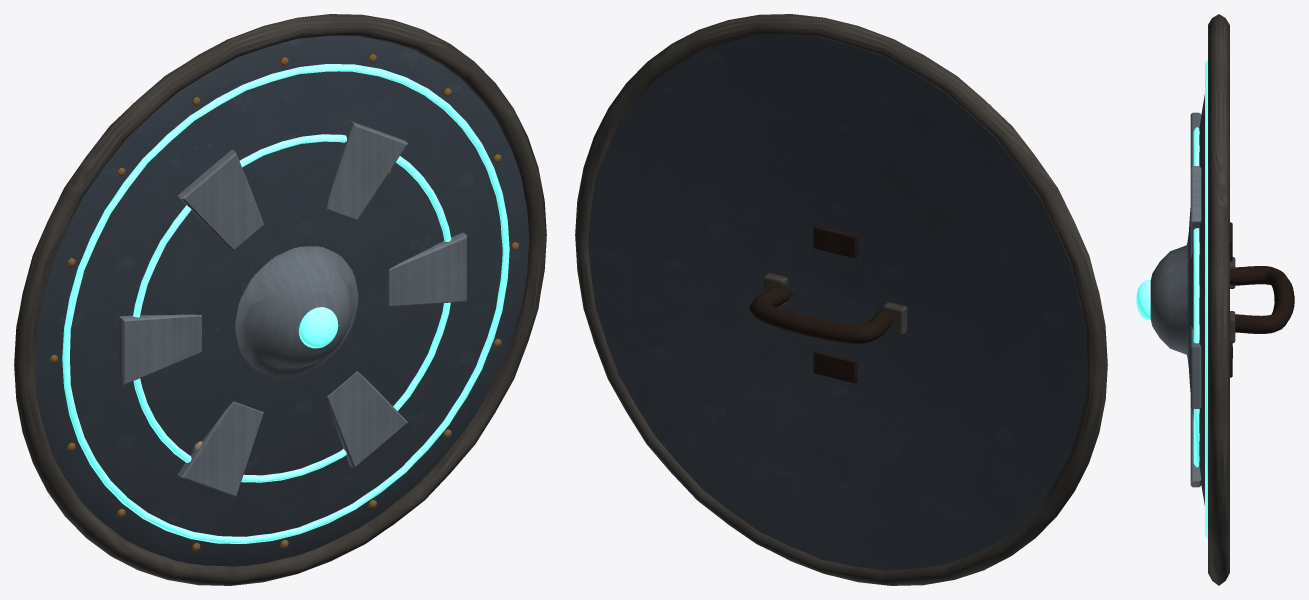
The model's file is kinetic-disc.lod1.glb.
3 views of the same model, side by side, from view 1: azimuth 30°, elevation 25°; view 2: azimuth 150°, elevation 25°; view 3: azimuth 270°, elevation 25° (orthographic). The views are drawn at different scales.
Visible parts, largest first — view 1: ceramic / ceramic composite panel, alloy / machined anodized alloy, iron / hammer-scaled wrought iron, energy / emissive field channel, bronze / cast bronze with patina; view 2: ceramic / ceramic composite panel, iron / hammer-scaled wrought iron, leather / oiled leather wrap; view 3: iron / hammer-scaled wrought iron, alloy / machined anodized alloy, energy / emissive field channel, leather / oiled leather wrap, ceramic / ceramic composite panel.
Boxes of the visible parts, x1=… form: ceramic / ceramic composite panel: x1=35, y1=35, x2=529, y2=566; alloy / machined anodized alloy: x1=118, y1=121, x2=466, y2=496; iron / hammer-scaled wrought iron: x1=14, y1=14, x2=546, y2=585; energy / emissive field channel: x1=62, y1=64, x2=509, y2=543; bronze / cast bronze with patina: x1=49, y1=53, x2=518, y2=551; ceramic / ceramic composite panel: x1=588, y1=35, x2=1086, y2=570; iron / hammer-scaled wrought iron: x1=575, y1=14, x2=1107, y2=585; leather / oiled leather wrap: x1=749, y1=225, x2=893, y2=383; iron / hammer-scaled wrought iron: x1=1208, y1=14, x2=1235, y2=585; alloy / machined anodized alloy: x1=1150, y1=112, x2=1201, y2=487; energy / emissive field channel: x1=1136, y1=60, x2=1207, y2=538; leather / oiled leather wrap: x1=1230, y1=222, x2=1294, y2=377; ceramic / ceramic composite panel: x1=1188, y1=94, x2=1204, y2=505.
Bounding box in the file's own units: 0.624 × 0.6228 × 0.1729.
8 materials, 5 textured.
